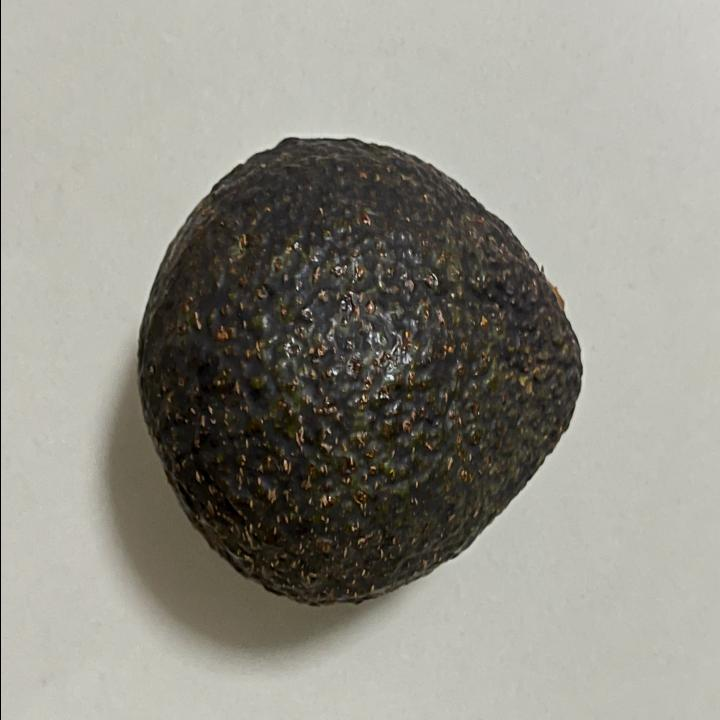Level2: (132, 129, 588, 610)
